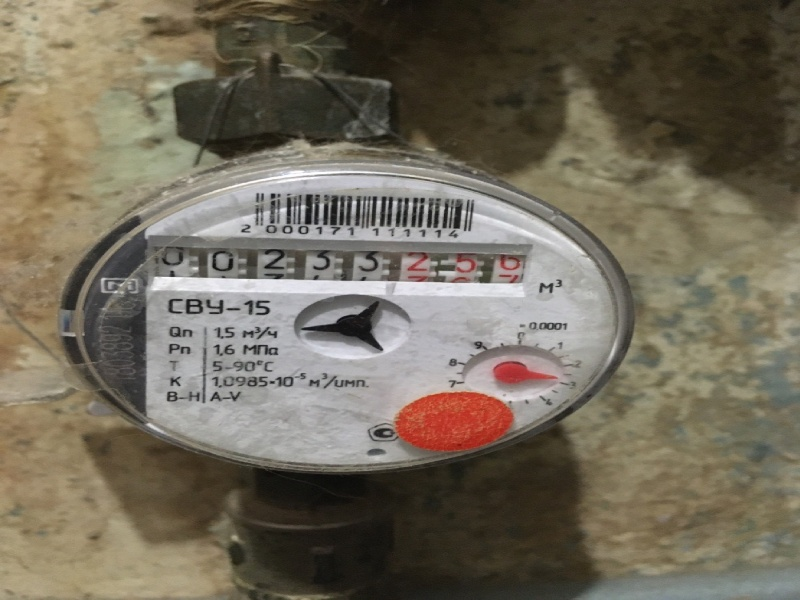meter: (148, 241, 529, 293)
